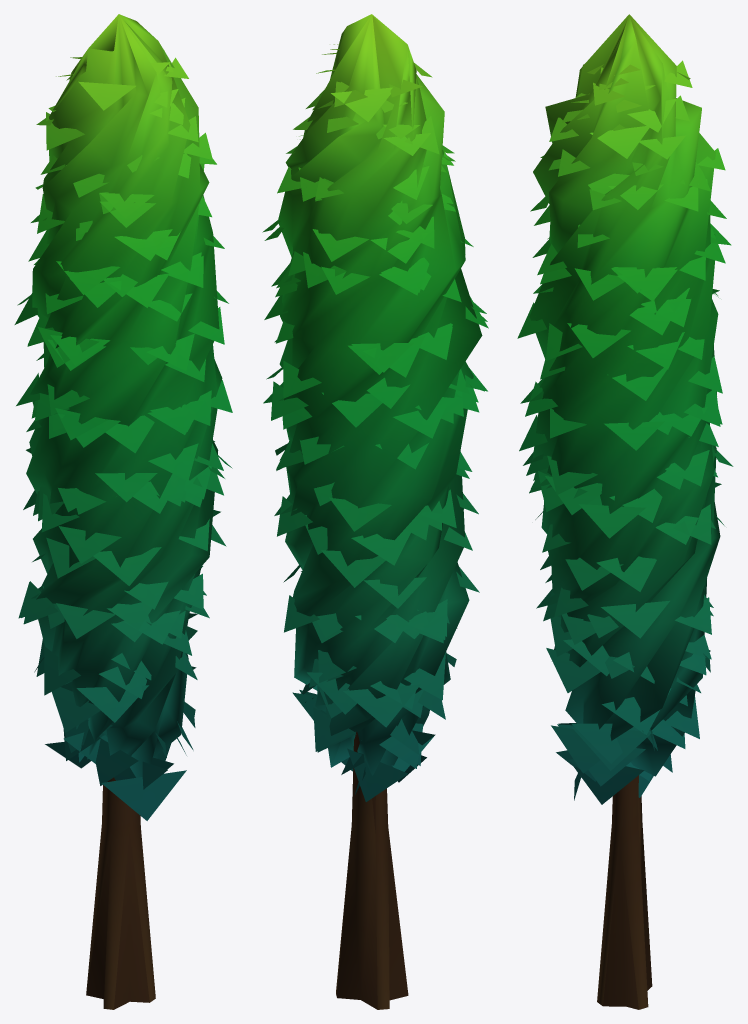
Rendered from Tree_5D.fbx.
3 renders of one model, left to right at view 1: azimuth 30°, elevation 25°; view 2: azimuth 150°, elevation 25°; view 3: azimuth 270°, elevation 25°, orthographic.
Parts seen in each view (by area): view 1: Tree_5D; view 2: Tree_5D; view 3: Tree_5D.
Part boxes in pixels (box(x1,y1,x2,y2)): Tree_5D: box(14, 14, 232, 1009); Tree_5D: box(262, 14, 488, 1009); Tree_5D: box(517, 14, 733, 1009).
Size of the model in its own units: 4.34 by 20.8 by 4.16.
